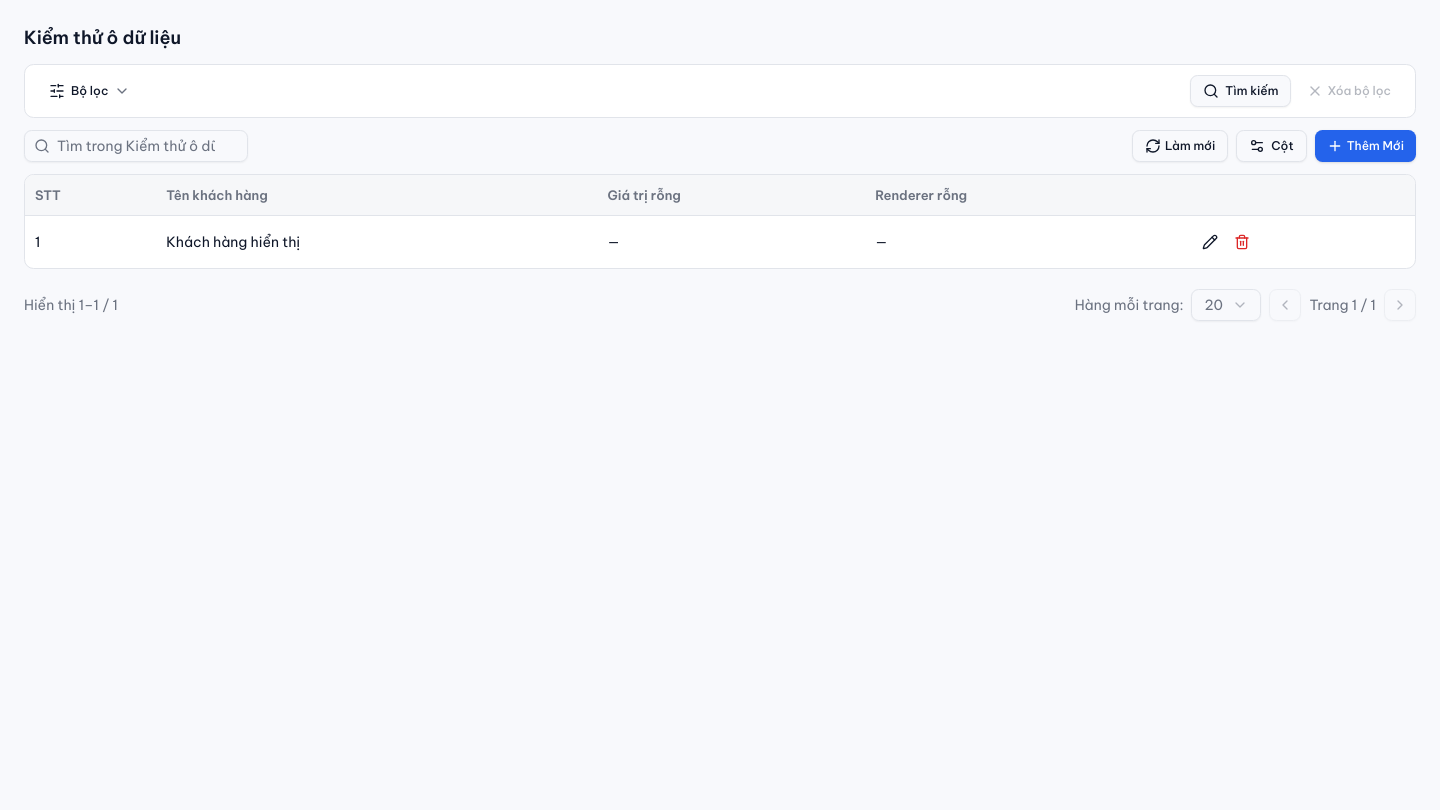
CrudTablePage cell rendering › shows a filtered-empty state with one-click query reset
Check: the text "Khách hàng hiển thị" is shown, box [156,215,597,268]
Click the button "Bộ lọc".
click(90, 91)  # box [41,75,138,107]
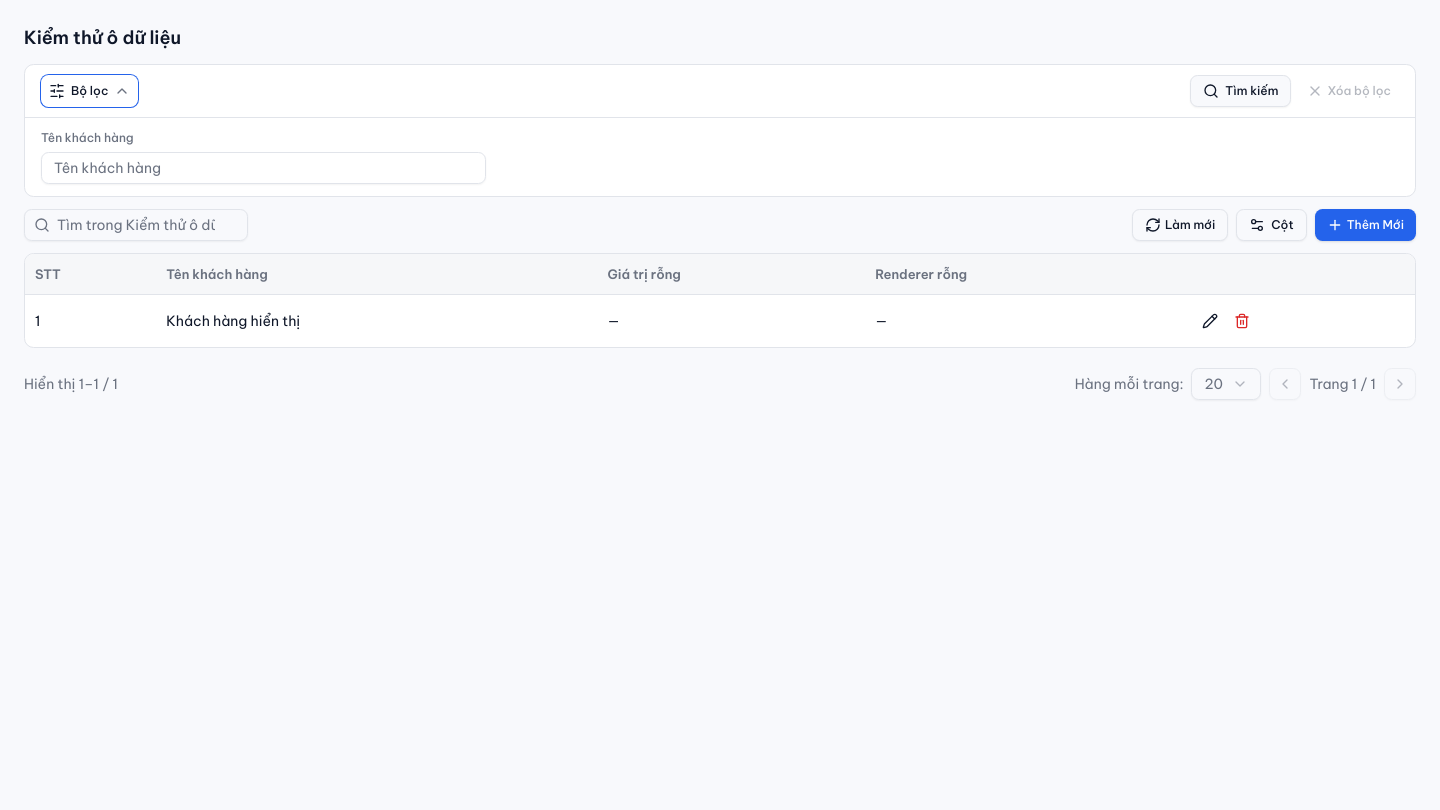
Type "Không khớp" into the field labelled "Tên khách hàng".
click(263, 168); type("Không khớp")  # box [41,152,486,184]
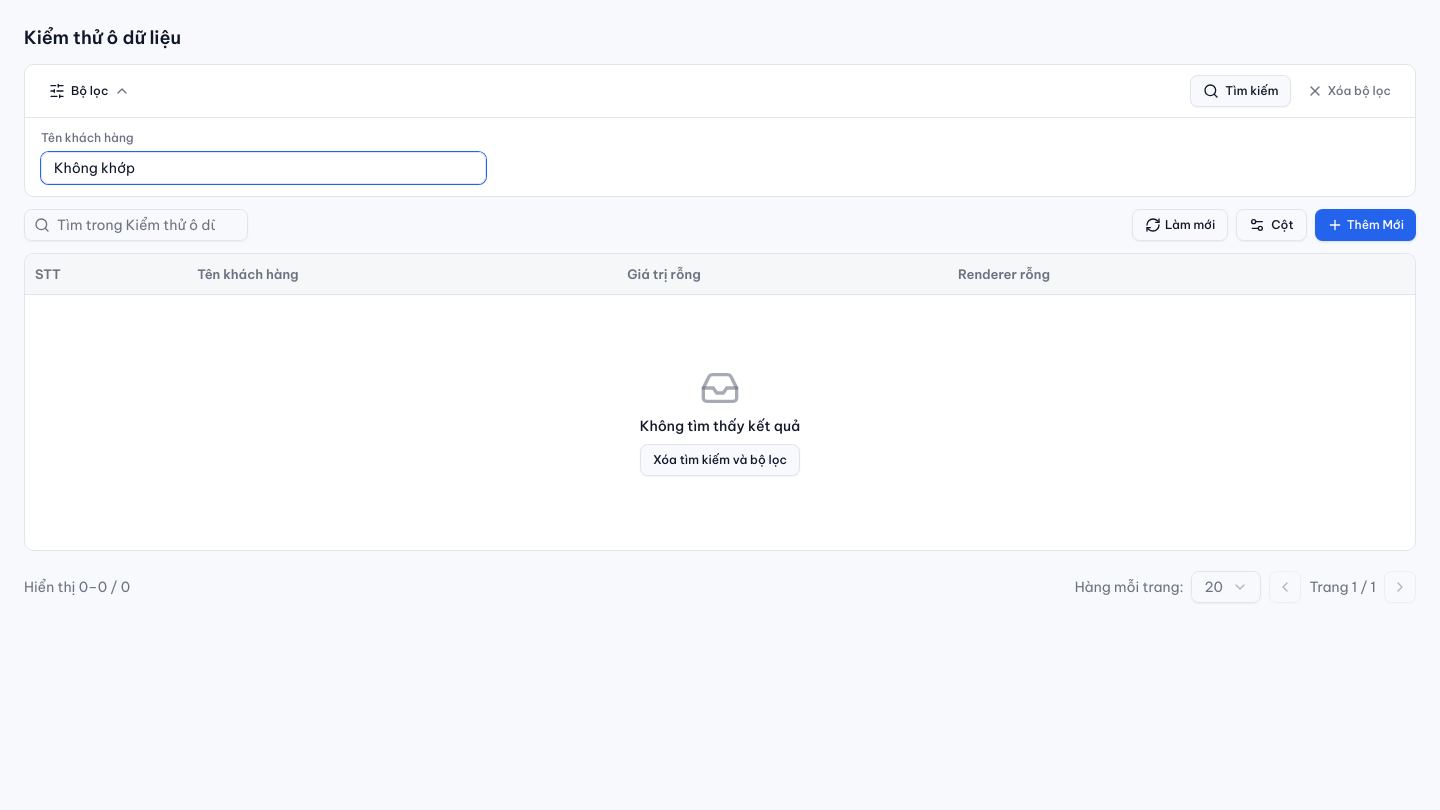
Check: the heading "Không tìm thấy kết quả" is shown, box [640,416,800,436]
Click the button "Xóa tìm kiếm và bộ lọc".
click(720, 460)  # box [640,444,800,476]
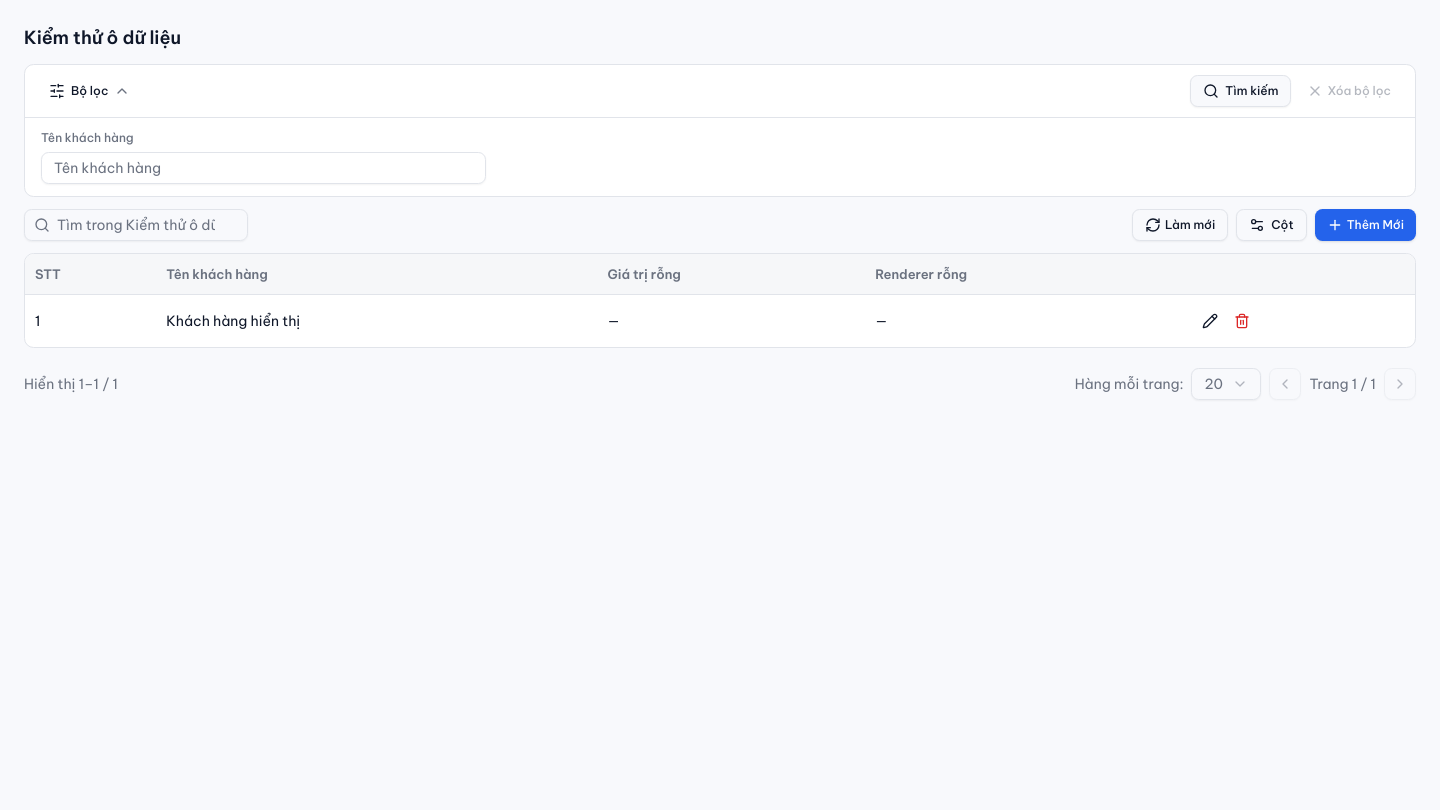
Check: the text "Khách hàng hiển thị" is shown, box [156,294,597,346]
Check: the field labelled "Tên khách hàng" is empty, box [41,152,486,184]
